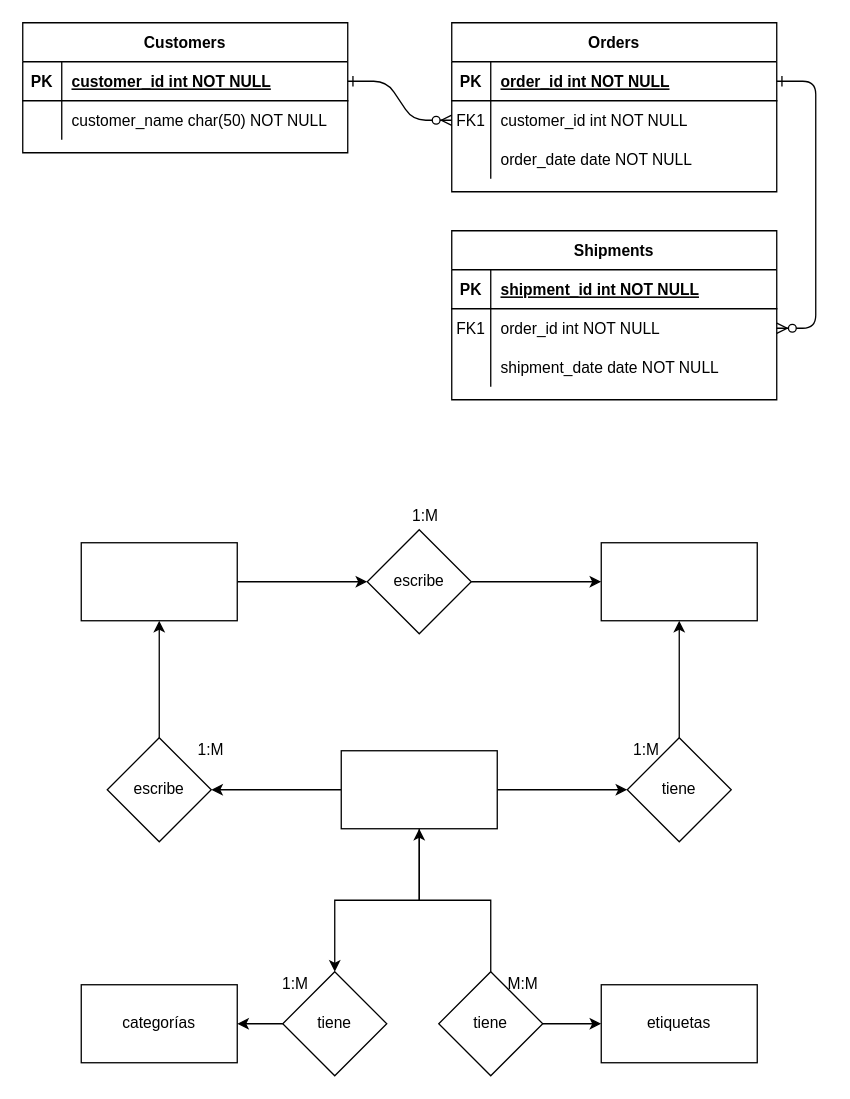
The diagram is 850 pixels wide and 1099 high, and some of its shapes have lost their labels. Here are the shapes that lost their labels. From the top down, the centre of each, then its label:
At [158,581]: "Usuarios".
At [678,581]: "Comentarios".
At [418,789]: "Post".
